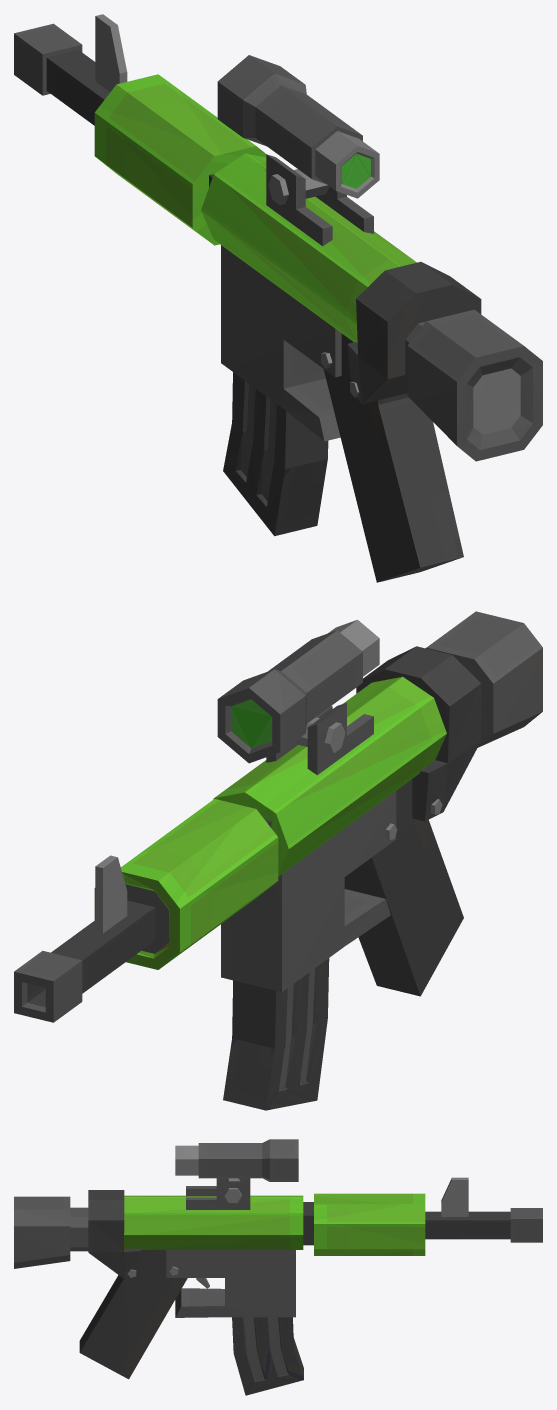
The model's file is smg_10.glb.
3 views of the same model, one above another, from view 1: azimuth 30°, elevation 25°; view 2: azimuth 150°, elevation 25°; view 3: azimuth 270°, elevation 25° (orthographic). The views are drawn at different scales.
Parts seen in each view (by area): view 1: subfusil_10_texture_0; view 2: subfusil_10_texture_0; view 3: subfusil_10_texture_0.
Boxes of the visible parts, x1,y1,x2,y2 form: subfusil_10_texture_0: (14,14,542,582); subfusil_10_texture_0: (14,611,542,1110); subfusil_10_texture_0: (14,1139,542,1395).
Bounding box in the file's own units: 0.0659 × 0.297 × 0.568.
1 material, 1 textured.
